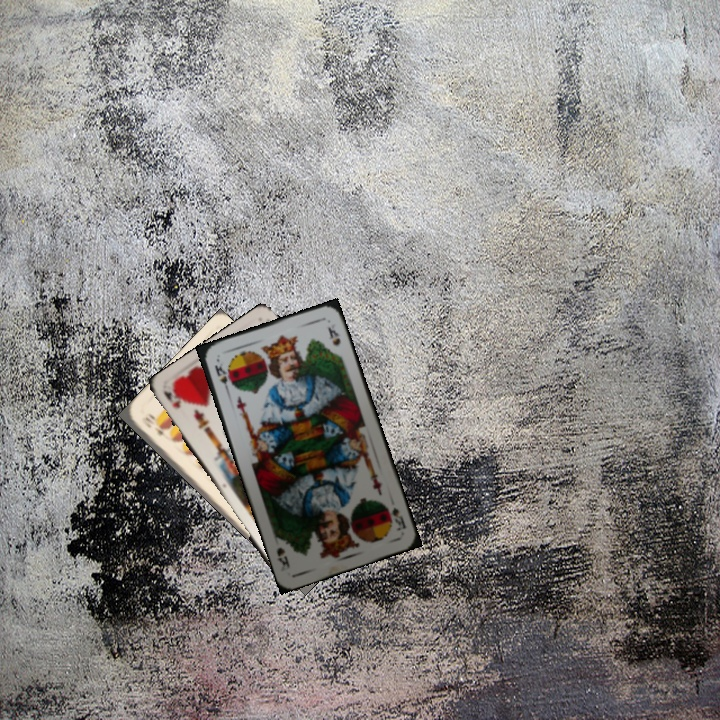E10: (138, 413, 166, 438)
HK: (160, 385, 184, 411)
SK: (383, 503, 409, 534), (210, 359, 232, 395)
